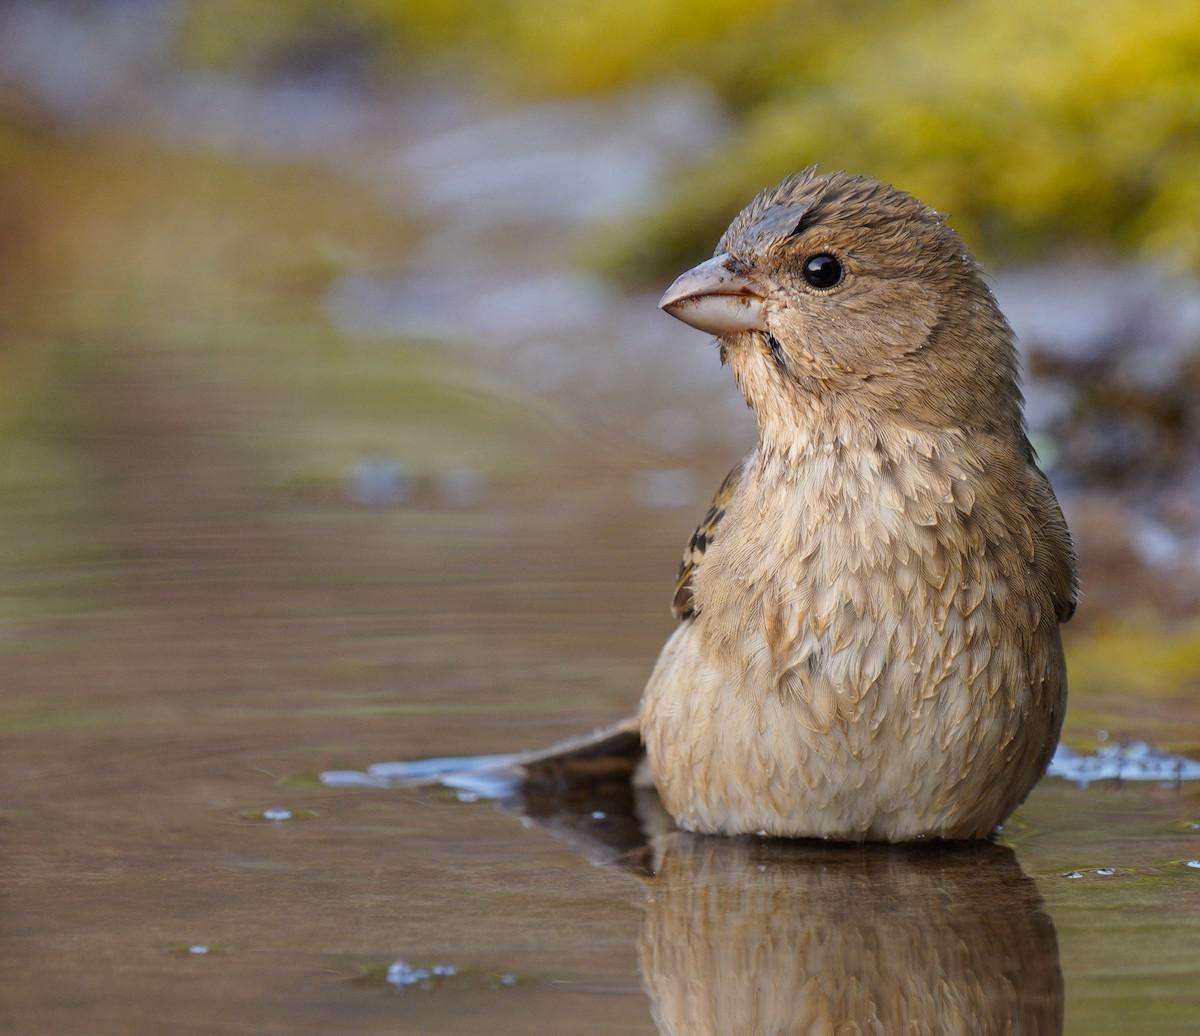rosefinch: (617, 140, 1056, 899)
